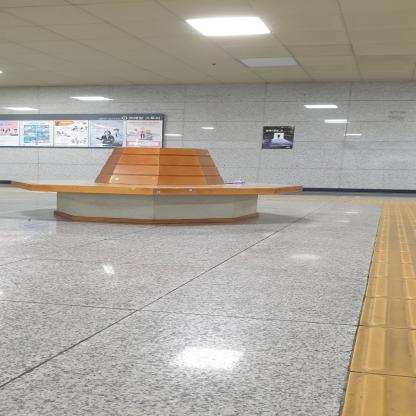go: (351, 326, 416, 378)
